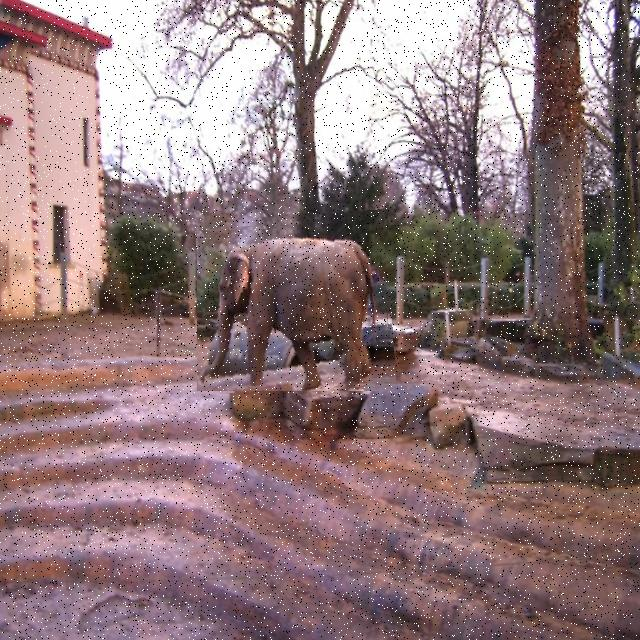elephant: (197, 212, 393, 391)
